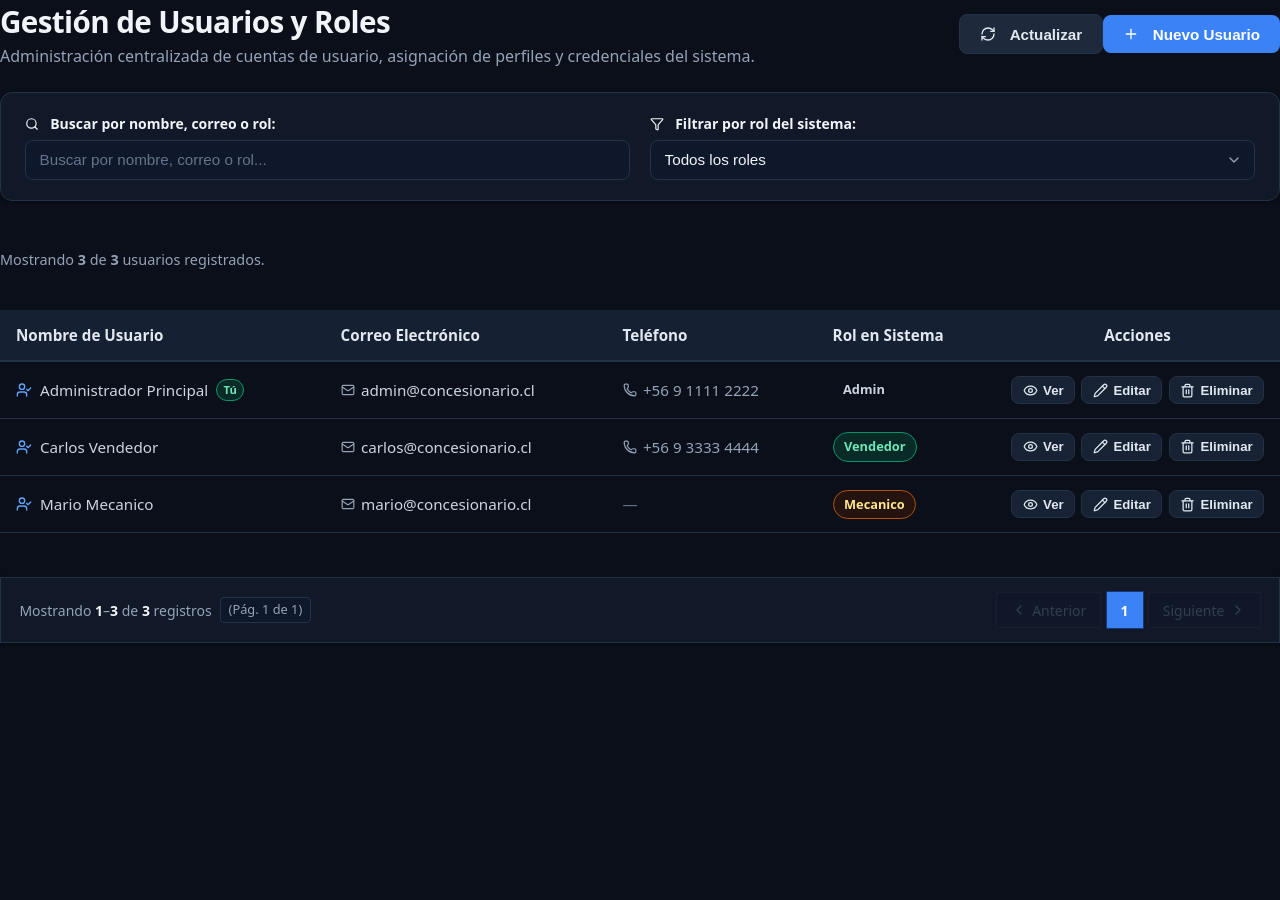
Módulo CRUD de Usuarios y Roles (UsuariosPage.tsx) › bloquea la autoeliminación de la cuenta en sesión activa
Expected: the text "Administrador Principal" is shown, [40, 379, 208, 401]
Click the button with aria-label "eliminar usuario administrador principal".
click(1216, 390)  # box [1169, 376, 1264, 404]
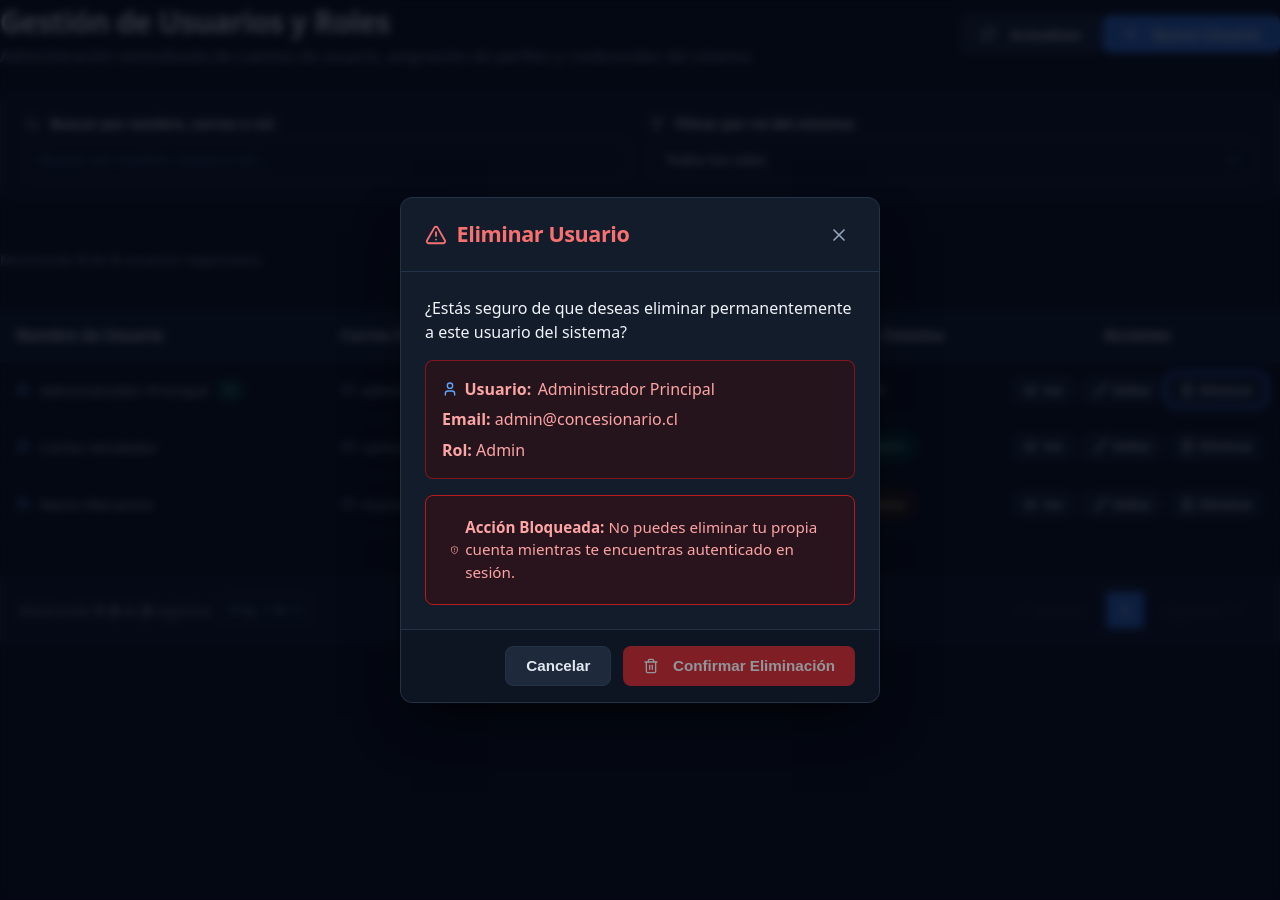
Expected: the heading "Eliminar Usuario" is shown, [457, 218, 629, 251]
Expected: the text "no puedes eliminar tu propia cuenta mientras te encuentras autenticado" is shown, [465, 516, 817, 582]
Expected: the button "Confirmar Eliminación" is disabled, [623, 646, 855, 686]
